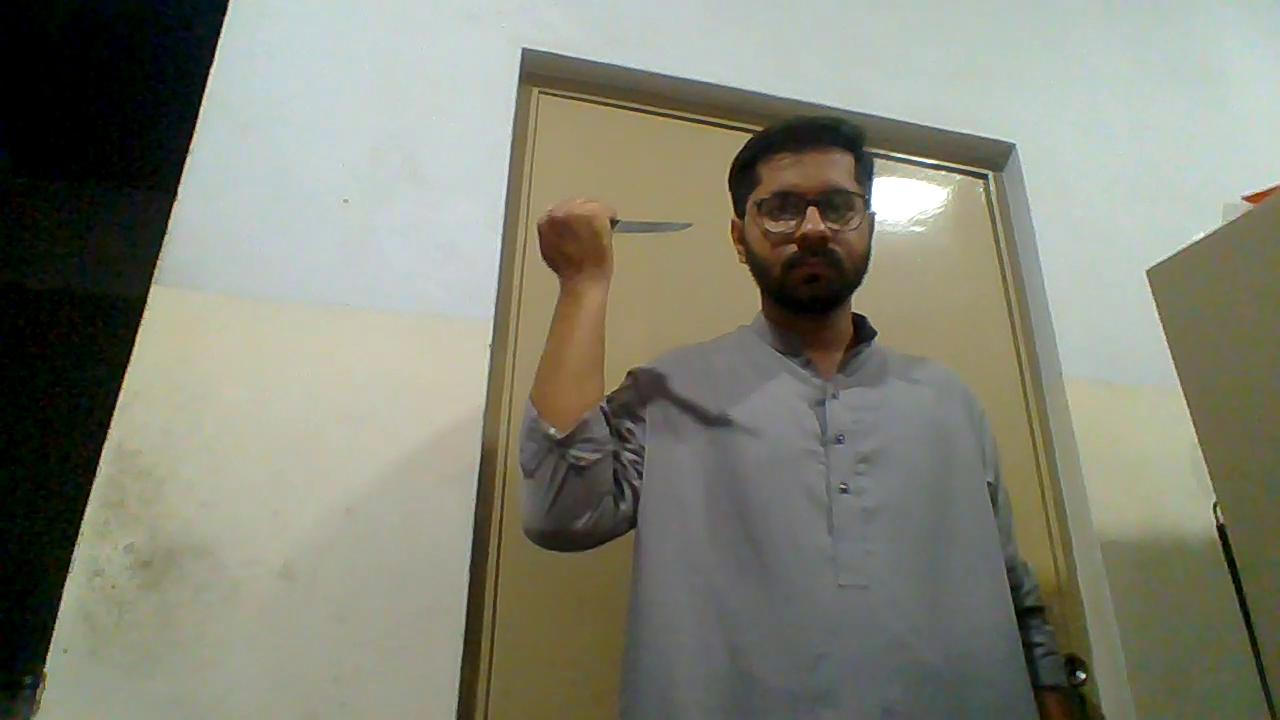criminal: (518, 112, 1076, 720)
weapon: (602, 210, 700, 236)
